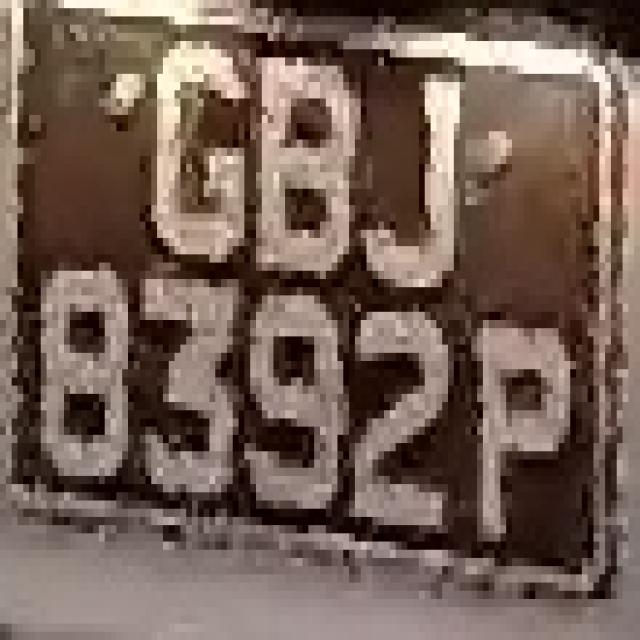2: (355, 279, 442, 533)
3: (134, 238, 244, 533)
8: (35, 246, 140, 509)
9: (244, 262, 361, 517)
B: (245, 49, 366, 287)
G: (134, 41, 262, 287)
J: (355, 41, 471, 295)
P: (454, 312, 576, 566)
